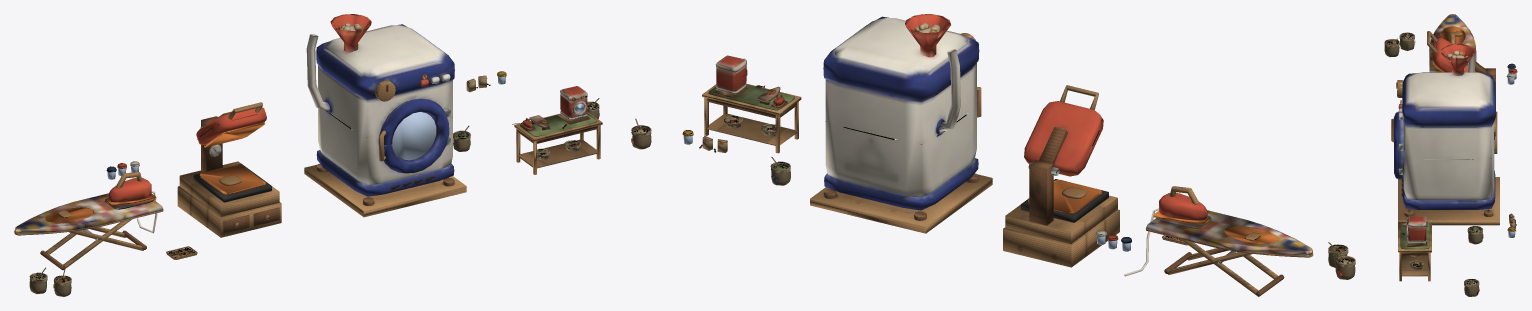
The model's file is kitchen.glb.
3 views of the same model, side by side, from view 1: azimuth 30°, elevation 25°; view 2: azimuth 150°, elevation 25°; view 3: azimuth 270°, elevation 25° (orthographic). The views are drawn at different scales.
Visible parts, largest first — view 1: prop_kitchen_felt, prop_kitchen_wood, prop_kitchen_felt_heat, prop_kitchen_glass; view 2: prop_kitchen_felt, prop_kitchen_wood, prop_kitchen_felt_heat; view 3: prop_kitchen_felt, prop_kitchen_wood, prop_kitchen_felt_heat, prop_kitchen_glass.
Boxes of the visible parts, x1,y1,x2,y2 form: prop_kitchen_felt: [14, 14, 599, 296]; prop_kitchen_wood: [14, 80, 602, 277]; prop_kitchen_felt_heat: [45, 74, 582, 223]; prop_kitchen_glass: [107, 76, 583, 179]; prop_kitchen_felt: [631, 14, 1355, 279]; prop_kitchen_wood: [635, 33, 1344, 296]; prop_kitchen_felt_heat: [767, 89, 1278, 244]; prop_kitchen_felt: [1384, 14, 1517, 296]; prop_kitchen_wood: [1391, 31, 1499, 283]; prop_kitchen_felt_heat: [1400, 26, 1465, 104]; prop_kitchen_glass: [1507, 68, 1516, 237].
Size of the model in its own units: 15.81 by 4.14 by 3.52.
Materials: 4 (3 with a texture image).
